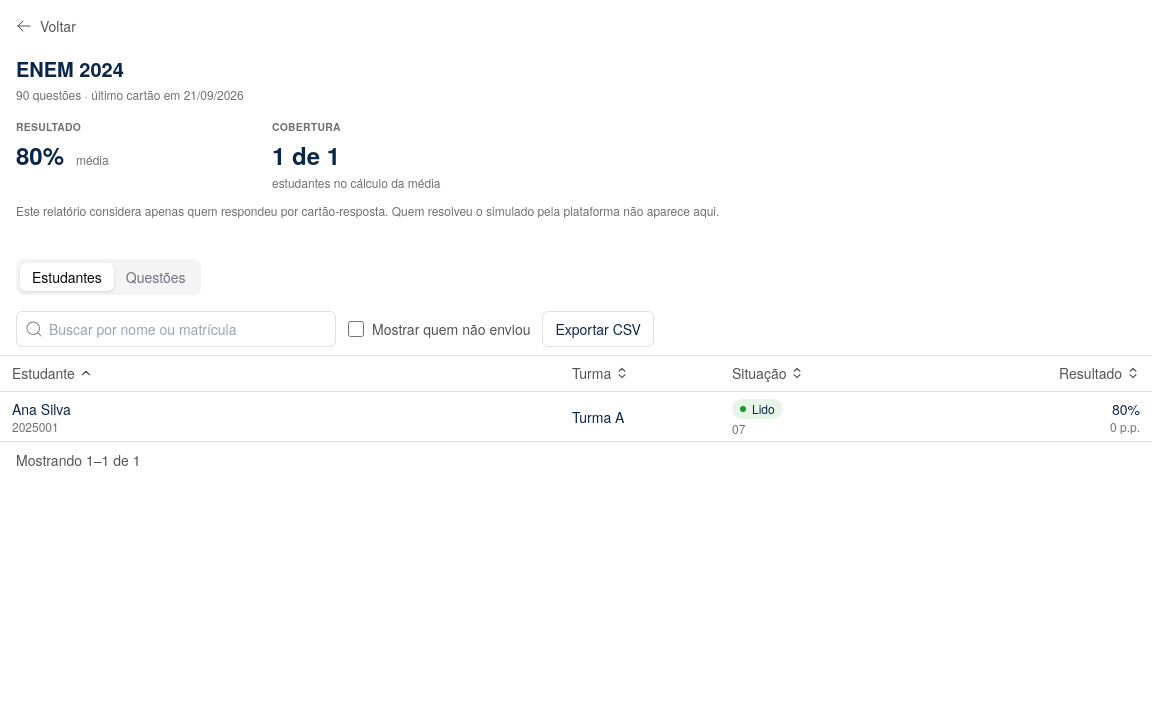
Scenario: RelatorioSimulado — acertos da turma no detalhe › ⚠️ o agregado falhando NÃO quebra o detalhe — coluna vira travessão
Click the text "Ana Silva": (41, 409) [12, 399, 71, 419]
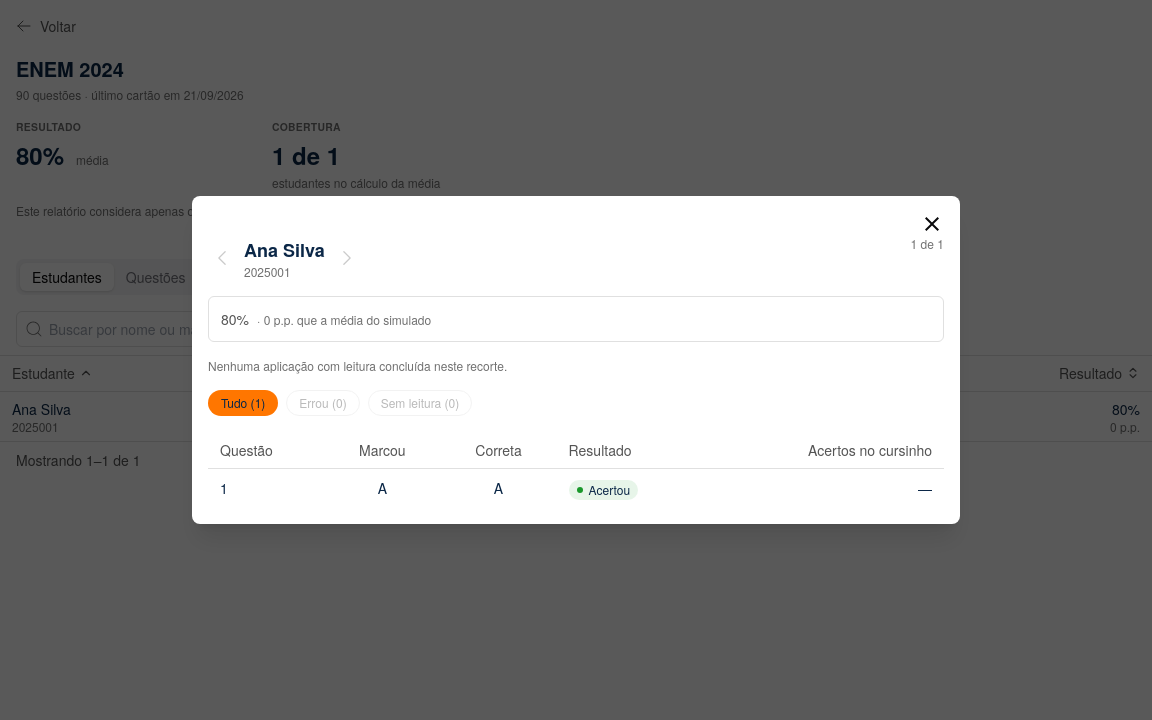
Check: the text "Marcou" is shown, box [359, 440, 406, 460]
Check: the cell "—" is shown, box [731, 468, 944, 508]
